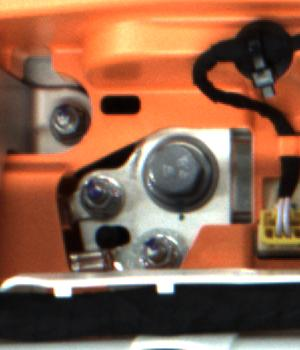nut_b: (137, 138, 218, 212)
screw_s: (77, 171, 119, 215), (43, 104, 87, 144), (136, 233, 176, 269)
